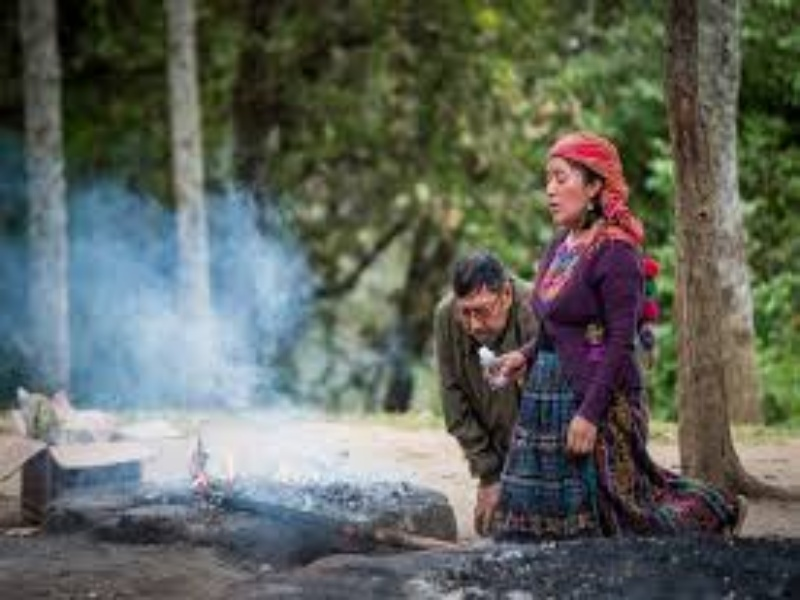smoke: (1, 195, 291, 510)
